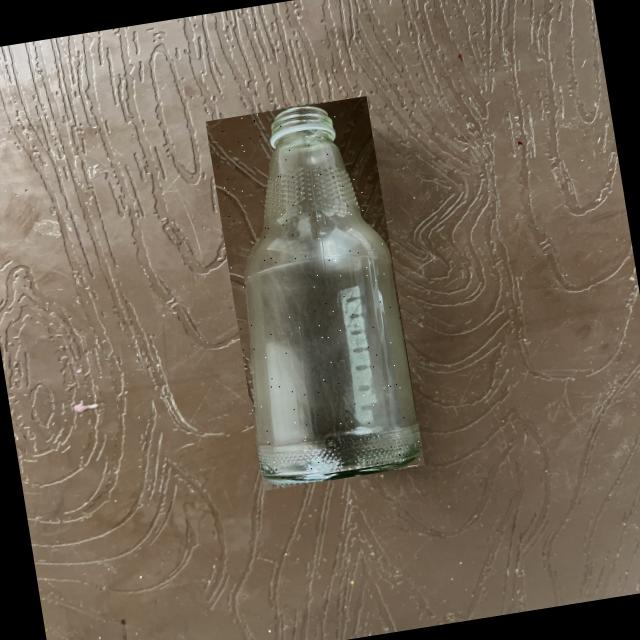Glass_Bottle: (244, 107, 419, 483)
